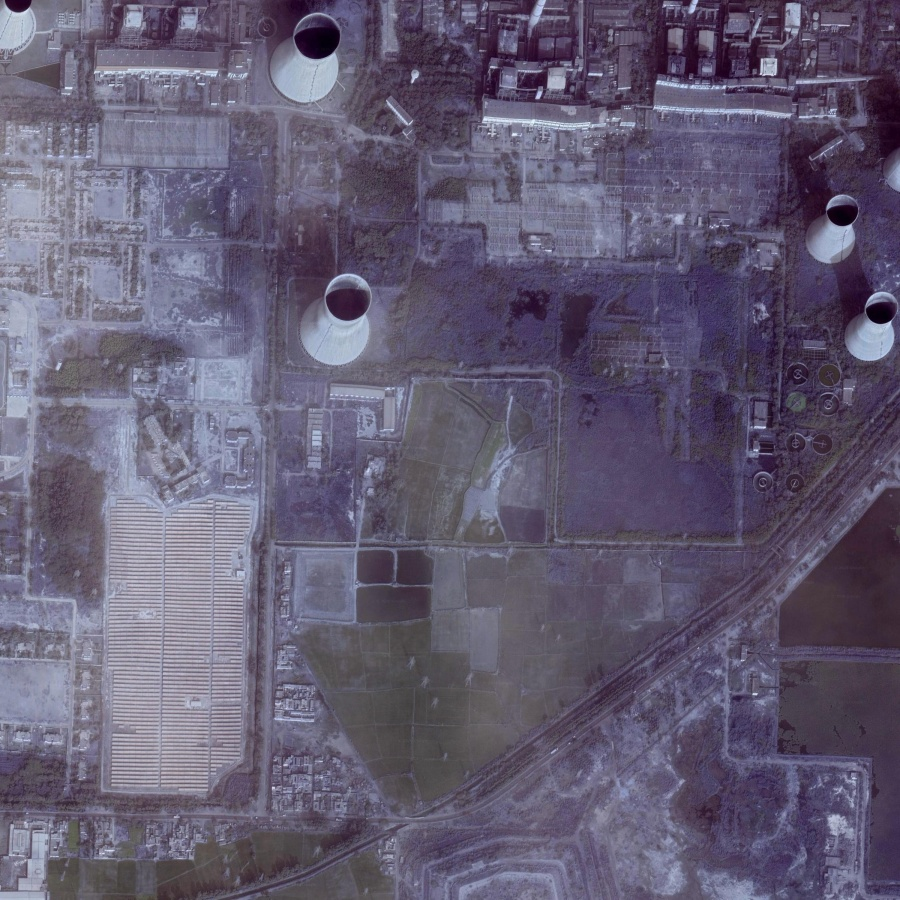PowerPlant: (280, 261, 524, 535)
